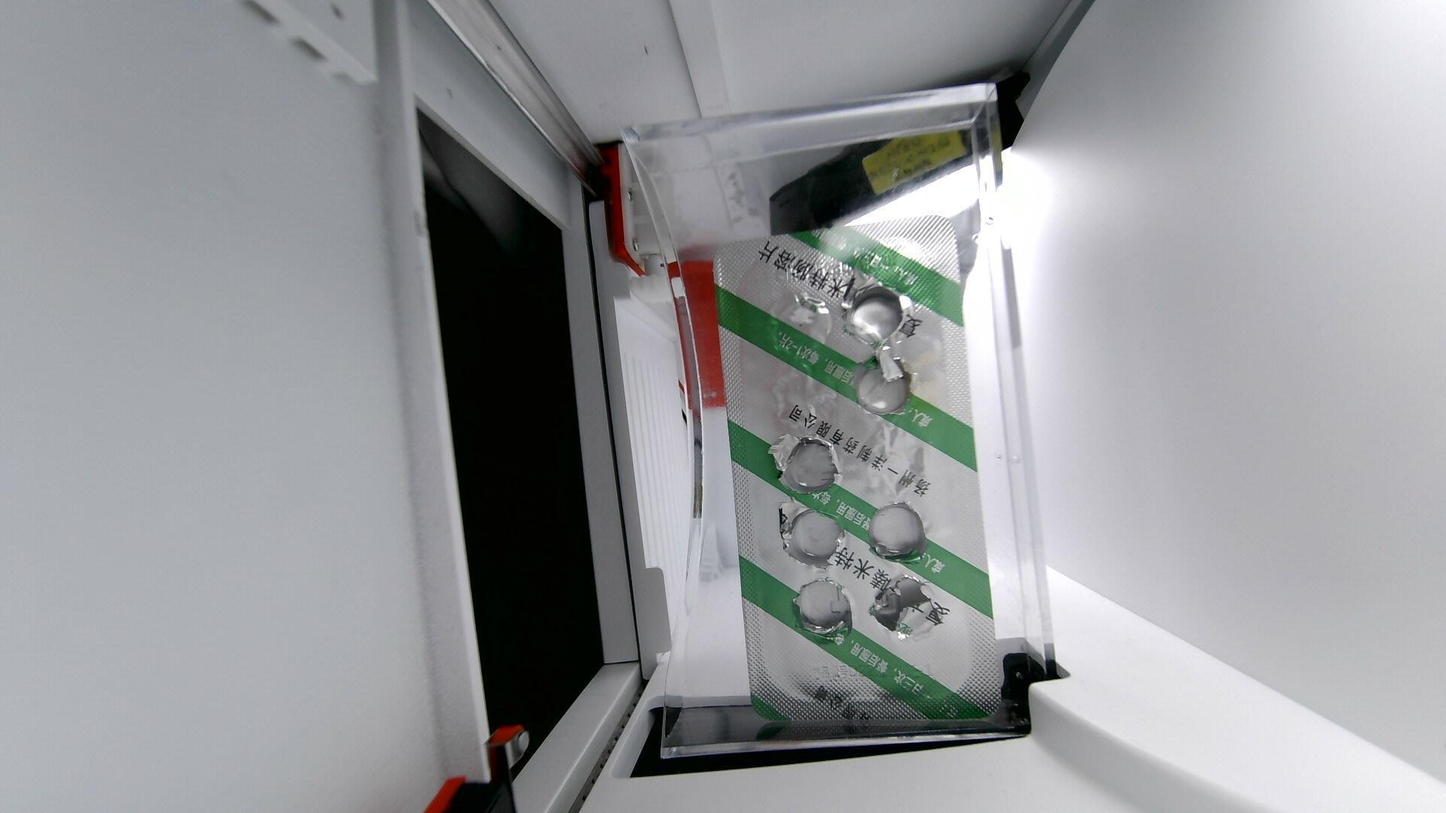No Pill Back: (850, 358, 926, 419), (789, 577, 858, 644), (840, 280, 911, 344), (873, 574, 944, 638), (771, 434, 845, 495), (780, 504, 848, 568), (865, 499, 928, 563)
Pill Back: (767, 367, 843, 431), (763, 288, 833, 354), (859, 433, 929, 495)
